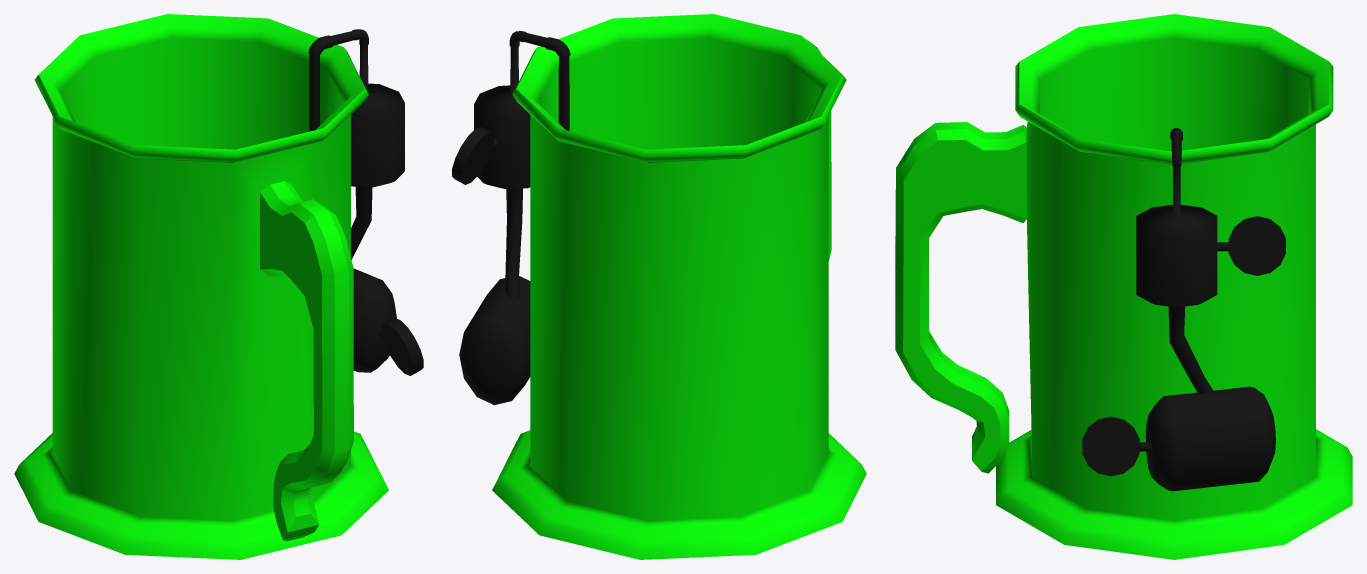
The model's file is SteamPunkTankard.obj.
The picture shows the model from 3 angles, left to right: view 1: azimuth 30°, elevation 25°; view 2: azimuth 150°, elevation 25°; view 3: azimuth 270°, elevation 25°; orthographic projection.
Visible parts, largest first — view 1: pCylinder1, pCylinder2, pCylinder5, pCylinder6; view 2: pCylinder1, pCylinder2, pCylinder5, pCylinder4; view 3: pCylinder1, pCylinder5, pCylinder2, pCylinder6, pCylinder4.
Boxes of the visible parts, left/top/right/bottom form: pCylinder1: left=14, top=14, right=388, bottom=559; pCylinder2: left=308, top=29, right=404, bottom=259; pCylinder5: left=353, top=268, right=396, bottom=372; pCylinder6: left=381, top=318, right=423, bottom=375; pCylinder1: left=492, top=14, right=866, bottom=559; pCylinder2: left=474, top=31, right=570, bottom=299; pCylinder5: left=459, top=276, right=530, bottom=405; pCylinder4: left=452, top=127, right=493, bottom=184; pCylinder1: left=895, top=14, right=1352, bottom=559; pCylinder5: left=1145, top=386, right=1275, bottom=491; pCylinder2: left=1136, top=128, right=1217, bottom=393; pCylinder6: left=1082, top=416, right=1139, bottom=476; pCylinder4: left=1228, top=216, right=1285, bottom=275.
Size of the model in its own units: 10.56 by 11.69 by 11.63.
